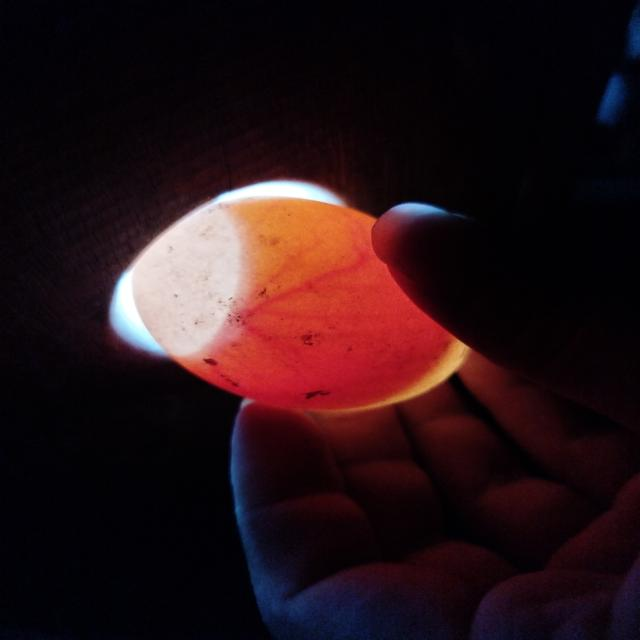Camara de Ar: (133, 206, 241, 356)
